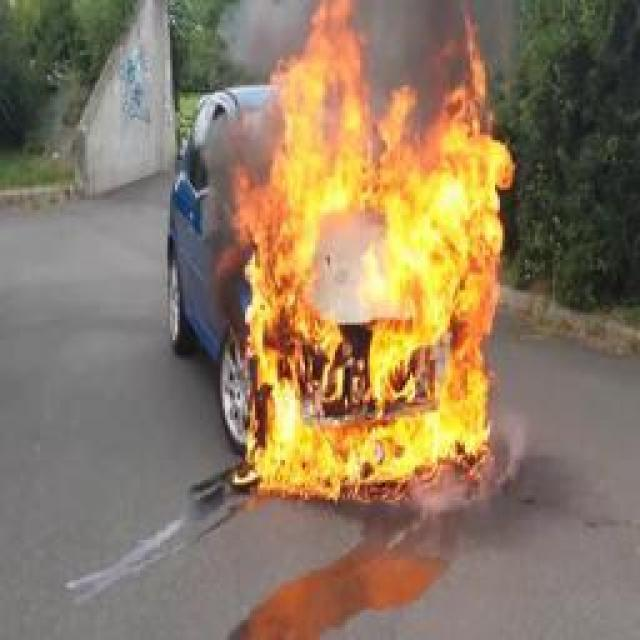Fire: (236, 8, 519, 498)
